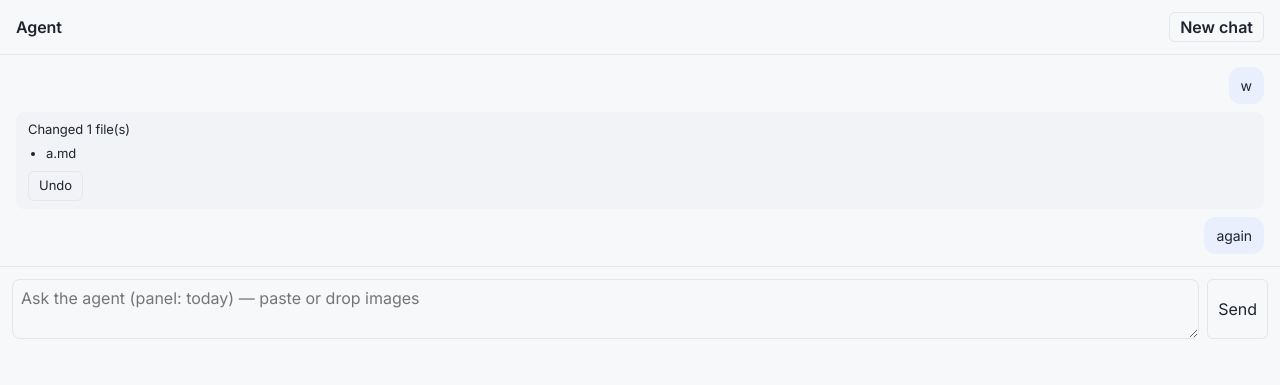
Test: AgentChat › undo is disabled during a run; a 409 shows detail and leaves run state alone
Earlier steps of the test are not shown.
Later steps or results of the test are not shown.
Click the button with aria-label "Undo this change" at (56, 186), box [28, 171, 83, 200]
Click the button with aria-label "Undo this change" at (56, 186), box [28, 171, 83, 200]
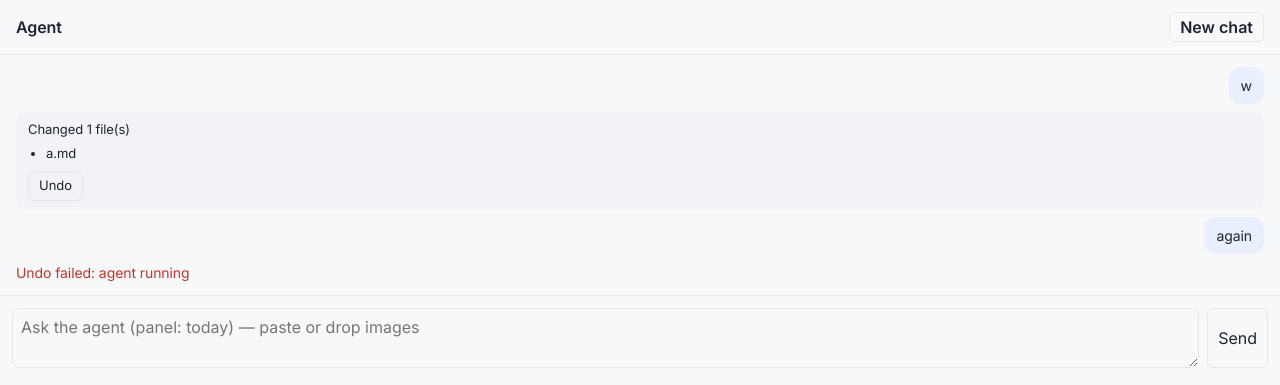
Check: the button "Send" is shown, box [1207, 308, 1268, 368]
Check: the text "Undo failed: agent running" is shown, box [16, 264, 190, 280]
